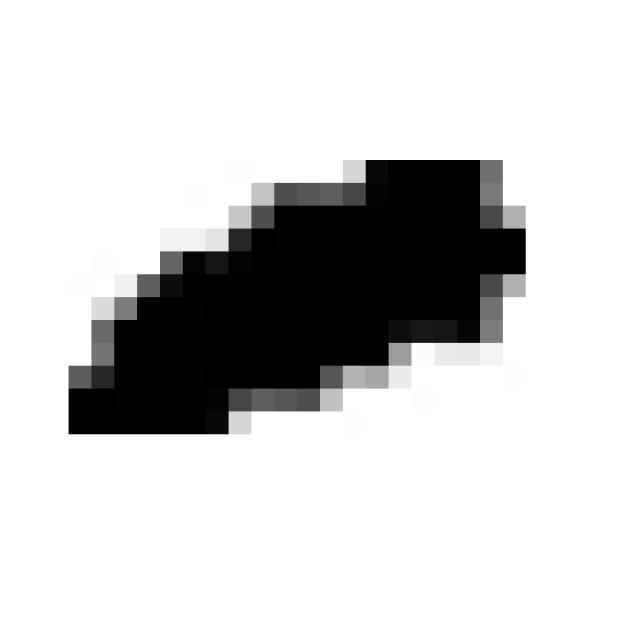0 -zero-: (57, 137, 540, 451)
